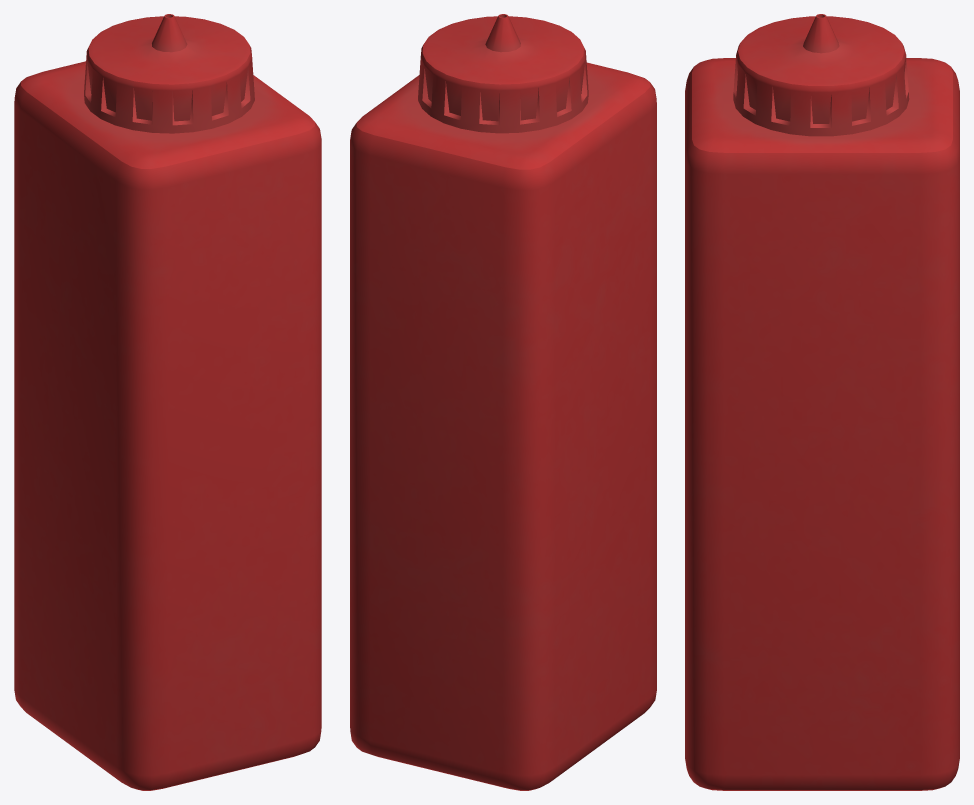
Rendered from SM_Ketchup_01.fbx.
3 renders of one model, left to right at view 1: azimuth 30°, elevation 25°; view 2: azimuth 150°, elevation 25°; view 3: azimuth 270°, elevation 25°, orthographic. The views are drawn at different scales.
Parts seen in each view (by area): view 1: SM_Ketchup_01_LOD0; view 2: SM_Ketchup_01_LOD0; view 3: SM_Ketchup_01_LOD0.
Part boxes in pixels (x1,y1,x2,y2): SM_Ketchup_01_LOD0: [14, 14, 321, 790]; SM_Ketchup_01_LOD0: [350, 14, 656, 790]; SM_Ketchup_01_LOD0: [685, 14, 959, 790].
Bounding box in the file's own units: 6 × 7 × 20.6.
1 material, 1 textured.
